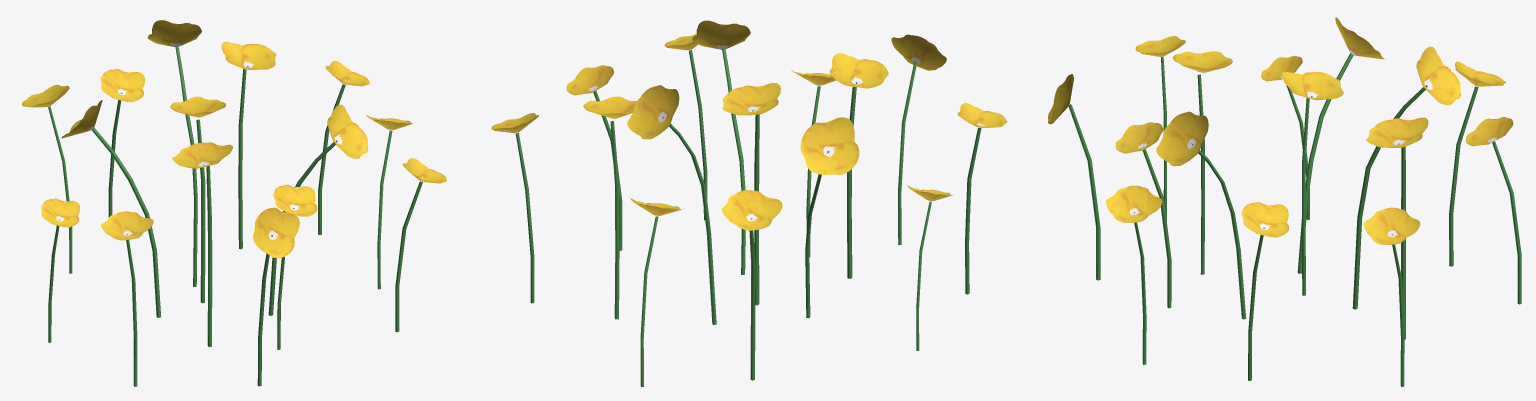
File: SM_flower_group_01.fbx
3 views of the same model, side by side, from view 1: azimuth 30°, elevation 25°; view 2: azimuth 150°, elevation 25°; view 3: azimuth 270°, elevation 25° (orthographic). The views are drawn at different scales.
Visible parts, largest first — view 1: Cylinder008; view 2: Cylinder008; view 3: Cylinder008.
Part boxes in pixels (<box>): Cylinder008: <box>22,20,446,386</box>; Cylinder008: <box>491,20,1006,386</box>; Cylinder008: <box>1048,17,1521,386</box>.
Bounding box in the file's own units: 41.35 × 25.58 × 41.13.
